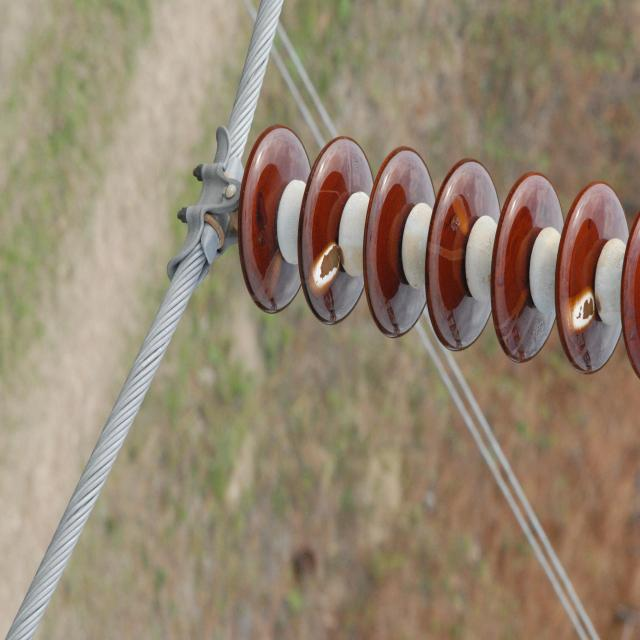insulator: (239, 124, 640, 380)
